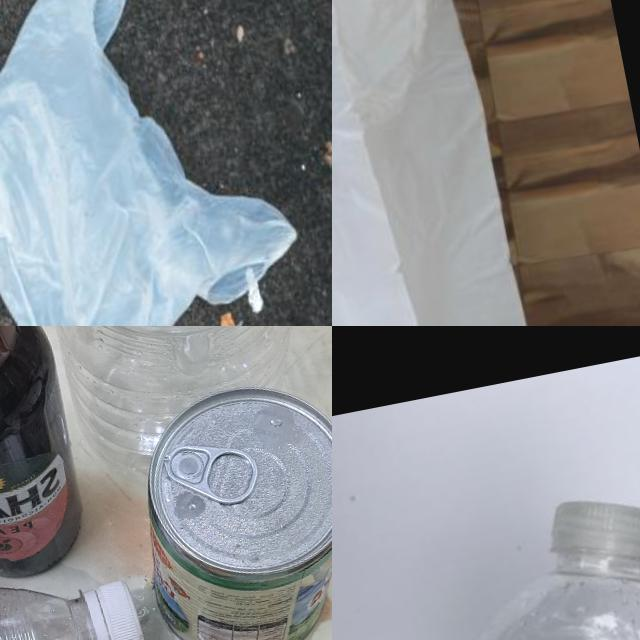aba de lata: (158, 430, 262, 513)
garrafa de vidro: (0, 326, 99, 595)
garrafa plástica: (46, 326, 332, 492), (389, 548, 640, 640), (0, 565, 107, 640)
lata: (118, 368, 332, 640)
sacola plástica: (0, 0, 332, 326), (332, 0, 569, 326)
tampa plástica: (541, 481, 640, 582), (94, 575, 153, 640)
